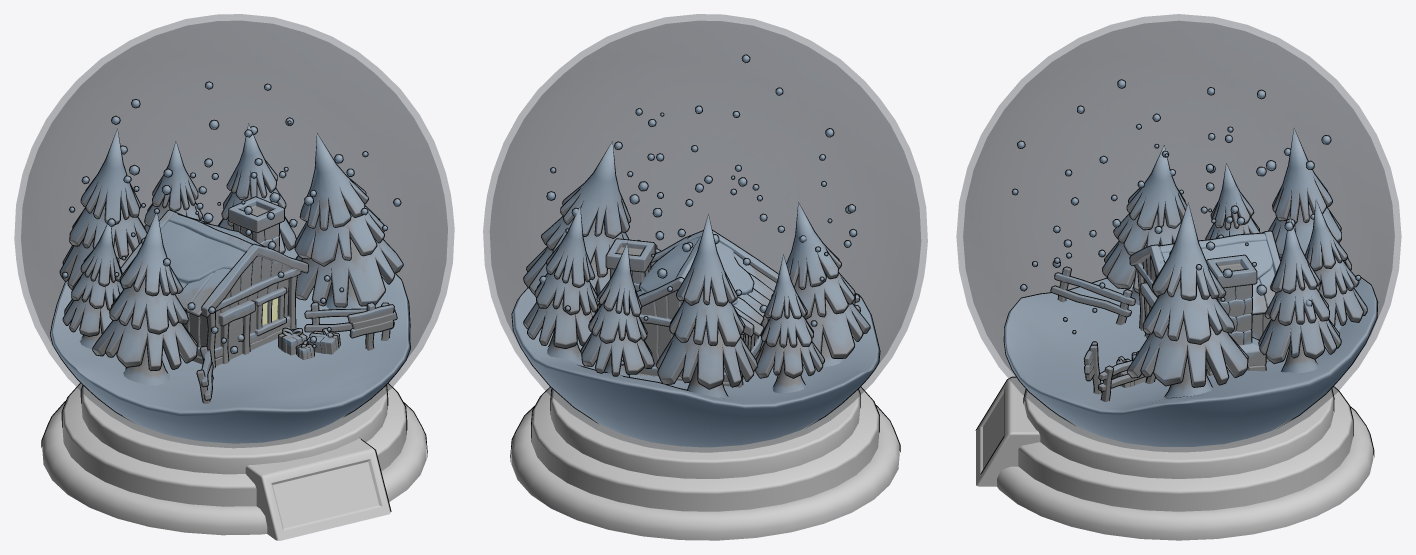
3 views of the same model, side by side, from view 1: azimuth 30°, elevation 25°; view 2: azimuth 150°, elevation 25°; view 3: azimuth 270°, elevation 25° (orthographic).
Parts seen in each view (by area): view 1: glass, christmass_ball; view 2: glass, christmass_ball; view 3: glass, christmass_ball.
Part boxes in pixels (x1,y1,x2,y2): glass: (14,14,454,447); christmass_ball: (41,81,427,540); glass: (483,14,927,452); christmass_ball: (510,54,900,540); glass: (956,14,1401,451); christmass_ball: (975,79,1378,540).
Size of the model in its own units: 200 by 210 by 200.
